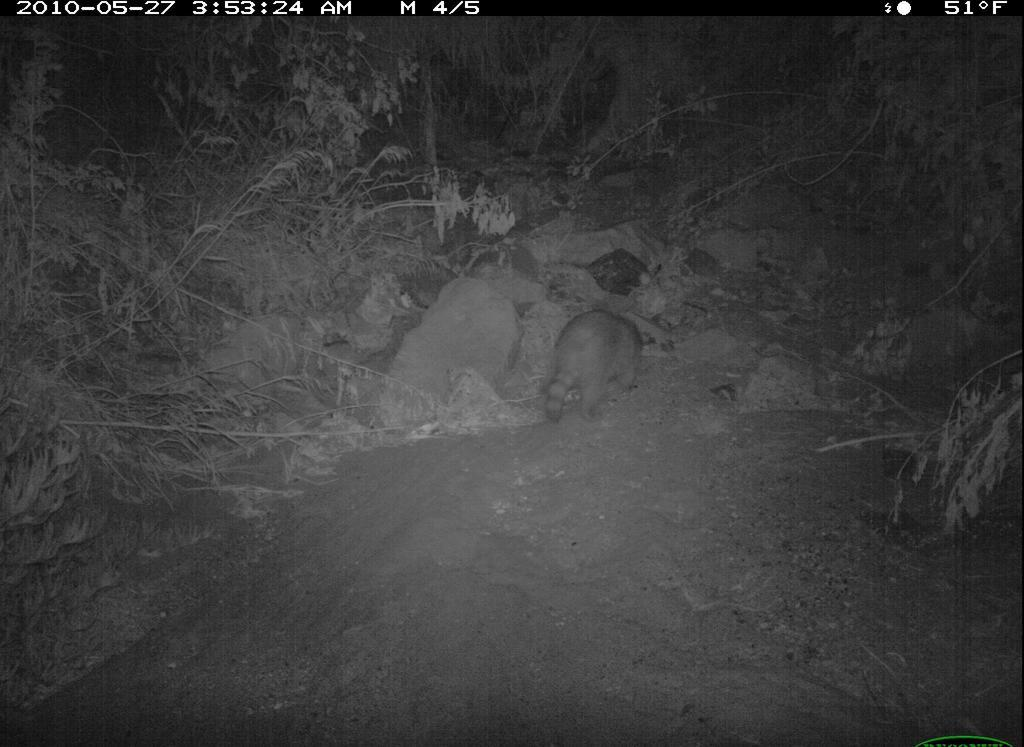raccoon: (538, 296, 658, 431)
